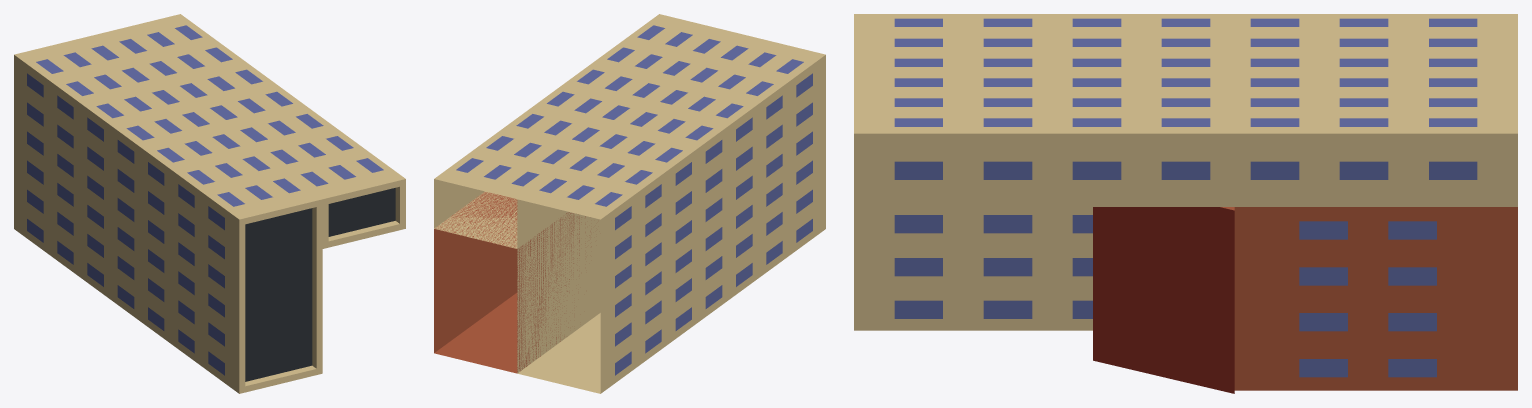
Rendered from construction_2.glb.
The picture shows the model from 3 angles, left to right: view 1: azimuth 30°, elevation 25°; view 2: azimuth 150°, elevation 25°; view 3: azimuth 270°, elevation 25°; orthographic projection. The views are drawn at different scales.
Parts seen in each view (by area): view 1: c2; view 2: c2; view 3: c2.
Boxes of the visible parts, left/top/right/bottom form: c2: left=14, top=14, right=405, bottom=393; c2: left=434, top=14, right=825, bottom=393; c2: left=854, top=14, right=1517, bottom=393.
Bounding box in the file's own units: 14.46 × 14.12 × 32.8.
